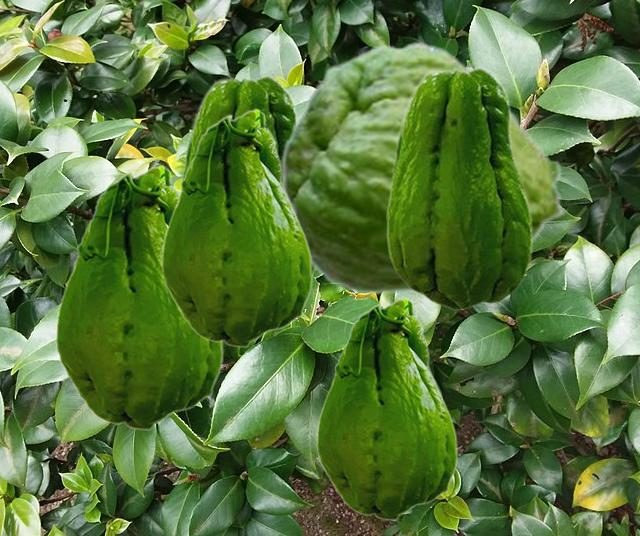sayote: (280, 40, 567, 295), (55, 164, 223, 430), (161, 108, 312, 347), (386, 66, 532, 310), (316, 297, 457, 520), (178, 74, 316, 282)
